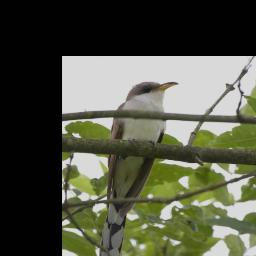Cuckoo: (99, 80, 180, 256)
